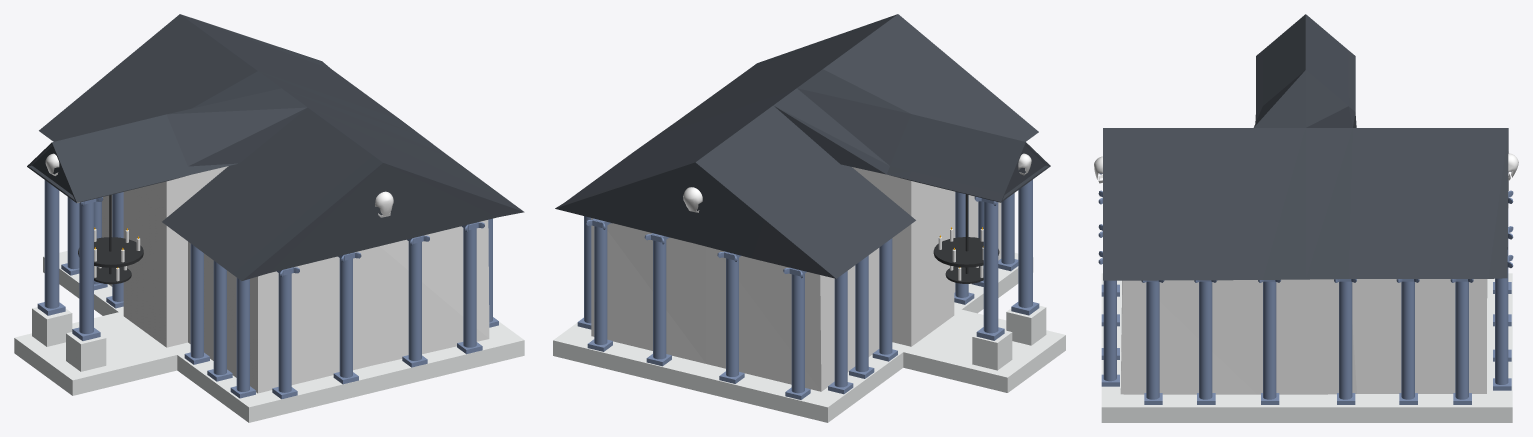
The model's file is TrainStationExport.fbx.
The picture shows the model from 3 angles, left to right: view 1: azimuth 30°, elevation 25°; view 2: azimuth 150°, elevation 25°; view 3: azimuth 270°, elevation 25°; orthographic projection.
Visible parts, largest first — view 1: station, column (×11), foundation, box_supportR, box_supportL, topChandlier_geo, bottomChandlier_geo; view 2: station, column (×12), foundation, box_supportL, topChandlier_geo, box_supportR, bottomChandlier_geo; view 3: station, column (×8), foundation.
Boxes of the visible parts, x1,y1,x2,y2 form: station: (27,14,524,393); column (×11): (44,180,476,392); foundation: (14,251,524,422); box_supportR: (66,332,106,371); box_supportL: (32,307,72,346); topChandlier_geo: (78,237,143,267); bottomChandlier_geo: (94,266,131,284); station: (555,14,1050,391); column (×12): (584,179,1032,393); foundation: (553,253,1065,422); box_supportL: (972,330,1012,370); topChandlier_geo: (933,237,999,267); box_supportR: (1006,305,1046,345); bottomChandlier_geo: (945,266,983,283); station: (1103,14,1508,394); column (×8): (1103,267,1508,399); foundation: (1101,273,1512,422).
Size of the model in its own units: 27.94 by 16.04 by 27.01.
